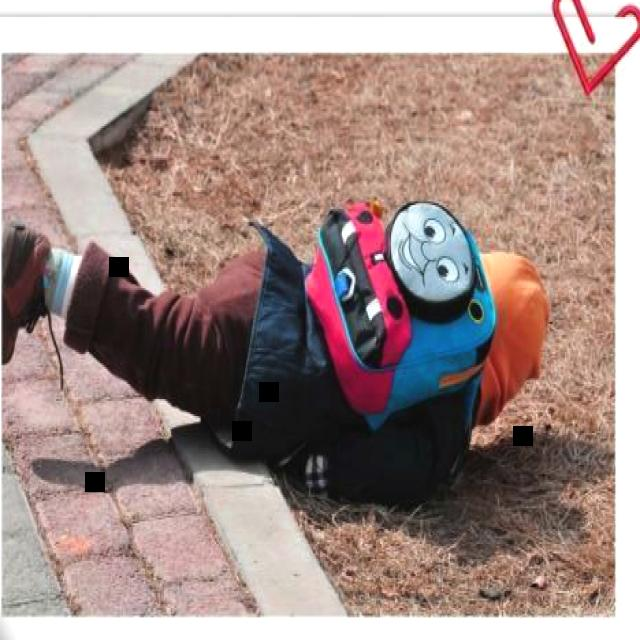Fall-Detected: (14, 156, 548, 512)
